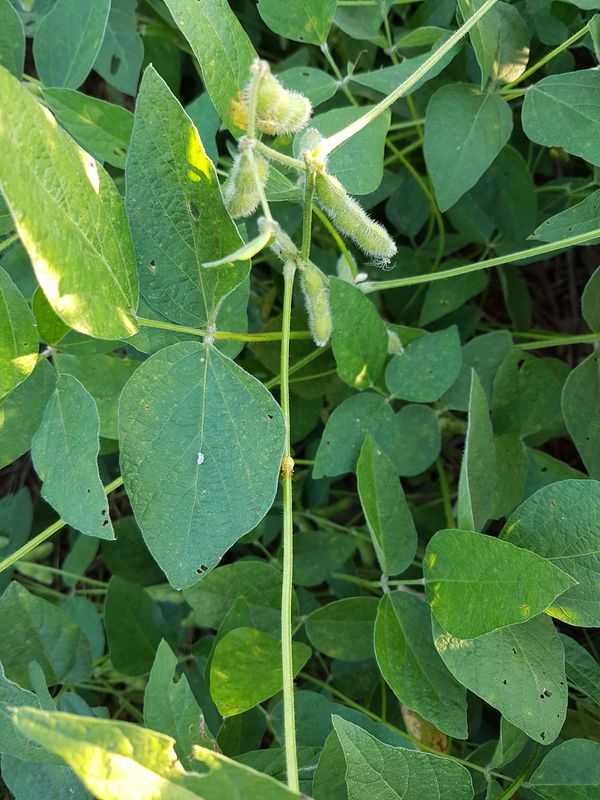Euschistus_heros_ninfa: (271, 448, 303, 482)
